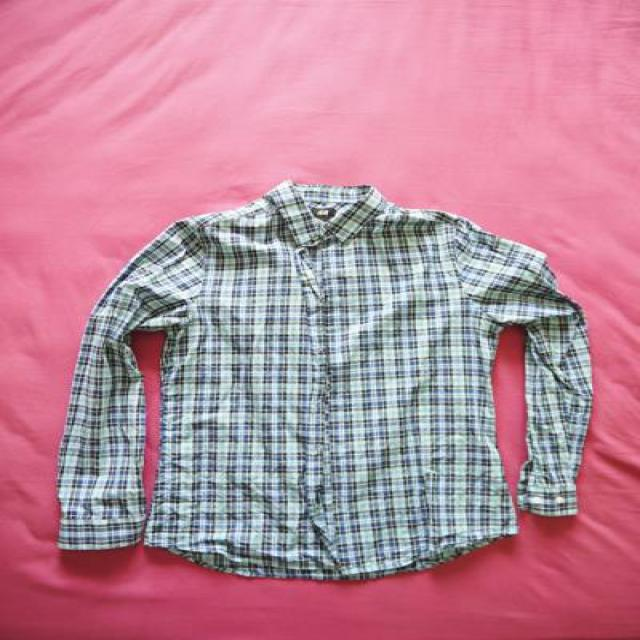Clothes -Biodegradable-: (57, 176, 595, 579)
